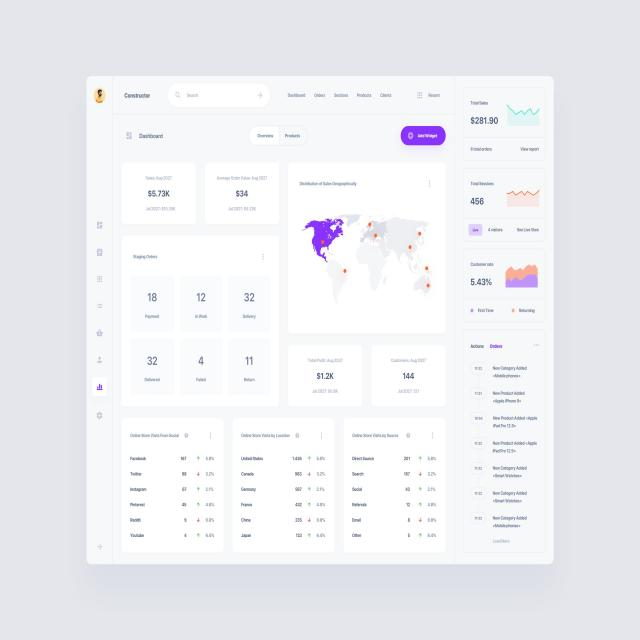button: (401, 126, 445, 146)
input: (168, 82, 270, 109)
